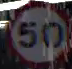Speed limit: (7, 3, 71, 65)
